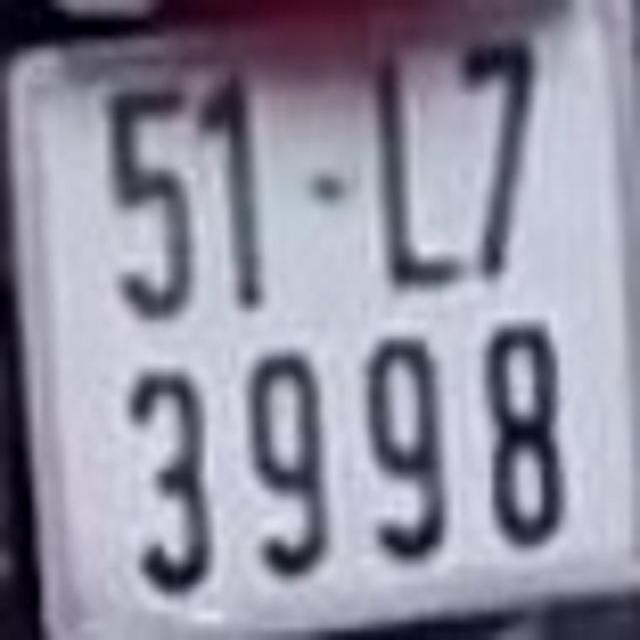1: (201, 74, 275, 310)
3: (124, 362, 216, 596)
5: (104, 84, 197, 321)
7: (460, 39, 536, 279)
8: (487, 321, 565, 550)
9: (364, 332, 448, 563), (246, 345, 328, 580)
L: (370, 57, 464, 288)
